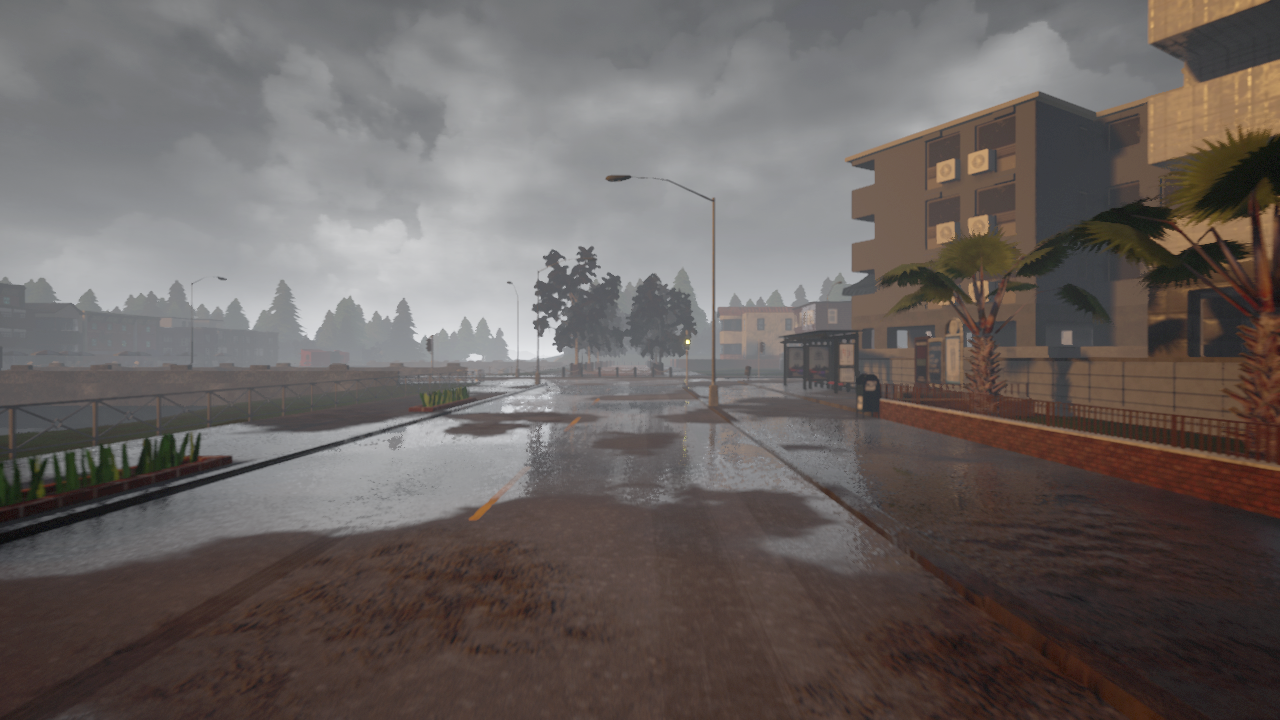yellow: (683, 333, 691, 350)
